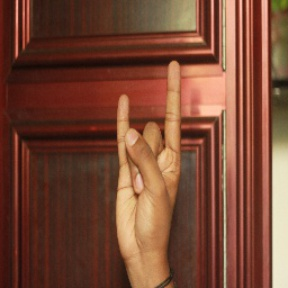V: (115, 59, 187, 252)
